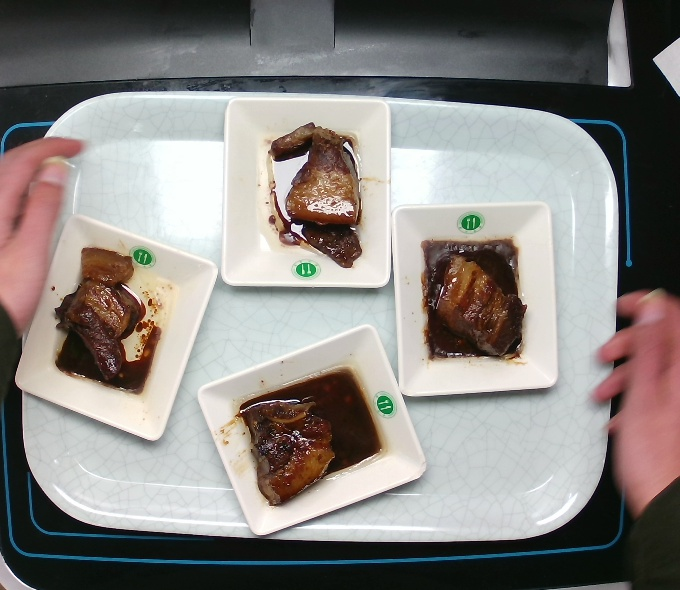wcq-DaKuaiRou: (220, 368, 391, 514), (251, 107, 384, 273), (50, 232, 166, 397), (408, 230, 529, 368)
